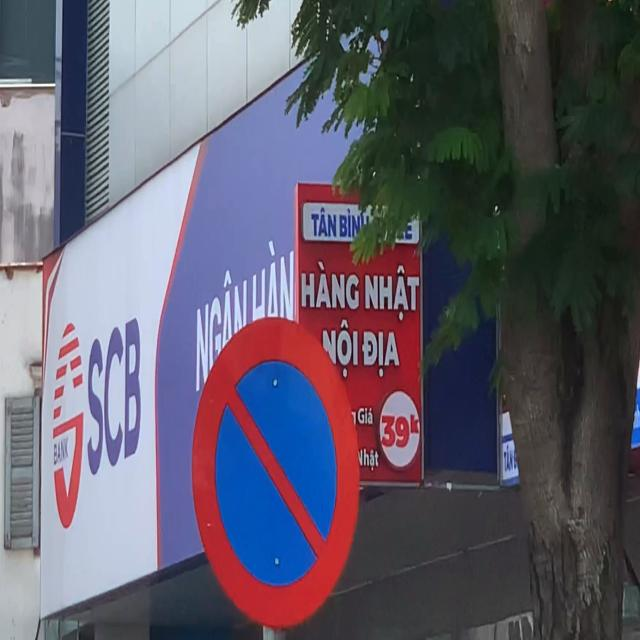Cam do: (191, 315, 360, 631)
